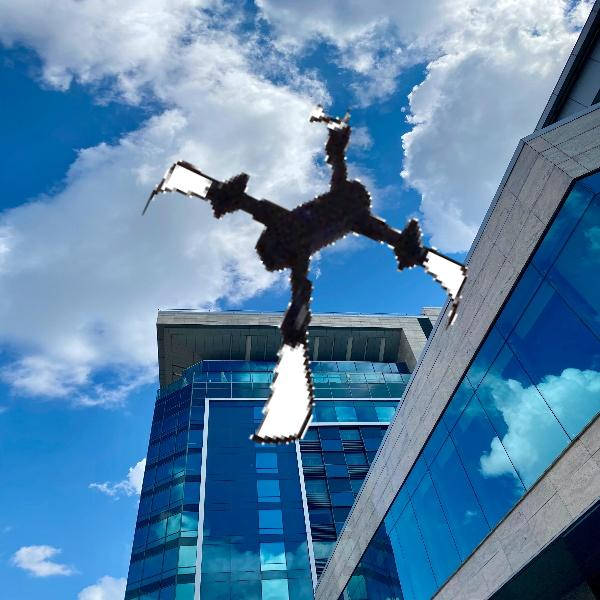drone: (117, 93, 481, 457)
